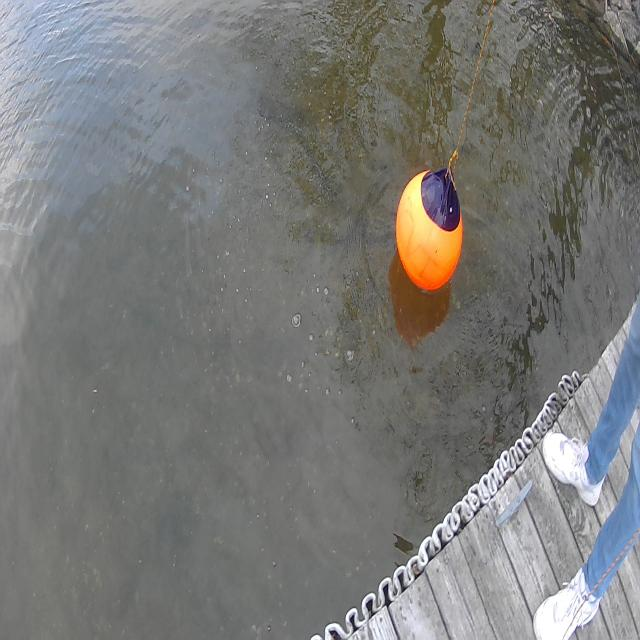Buoy: (392, 154, 471, 308)
